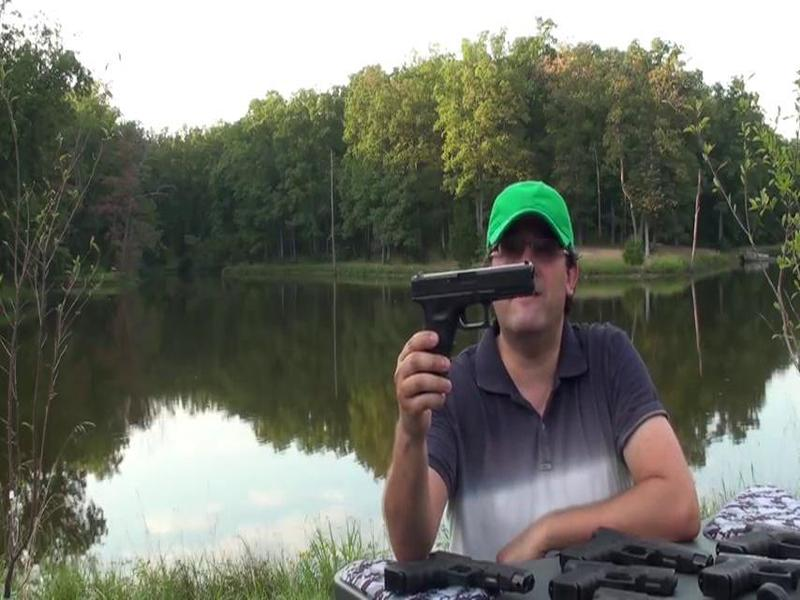Pistola: (395, 252, 579, 380), (374, 536, 526, 600), (556, 555, 680, 600)
